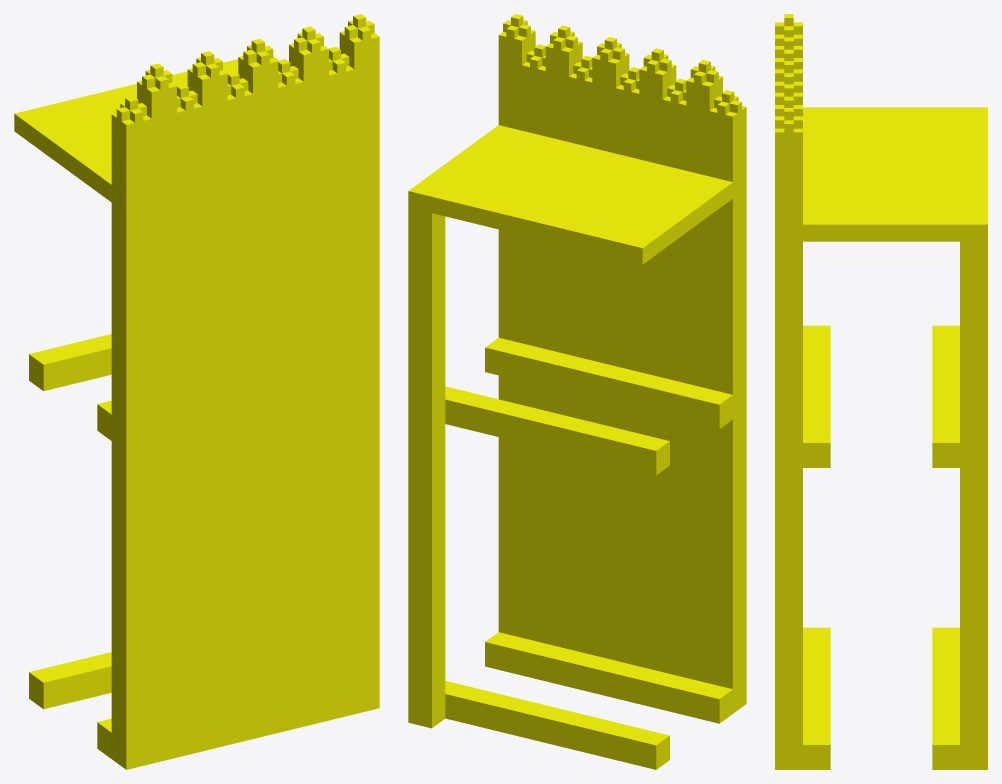
File: voxel-rangers-wall.glb
3 views of the same model, side by side, from view 1: azimuth 30°, elevation 25°; view 2: azimuth 150°, elevation 25°; view 3: azimuth 270°, elevation 25° (orthographic). The views are drawn at different scales.
Parts seen in each view (by area): view 1: ObjObject.009; view 2: ObjObject.009; view 3: ObjObject.009.
Part boxes in pixels (x1,y1,x2,y2): ObjObject.009: [14, 14, 379, 769]; ObjObject.009: [408, 14, 746, 769]; ObjObject.009: [775, 14, 987, 769].
Size of the model in its own units: 3 by 7.8 by 2.3.
